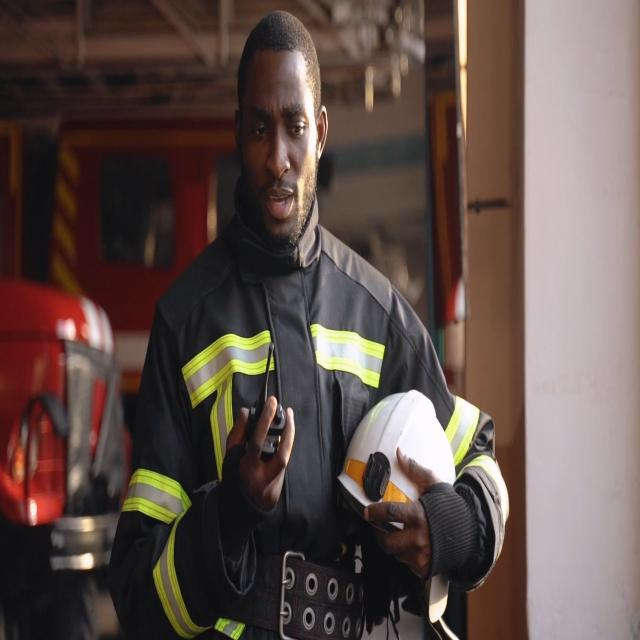Jacket_Wearer: (116, 208, 490, 638)
Person: (110, 18, 514, 640)
